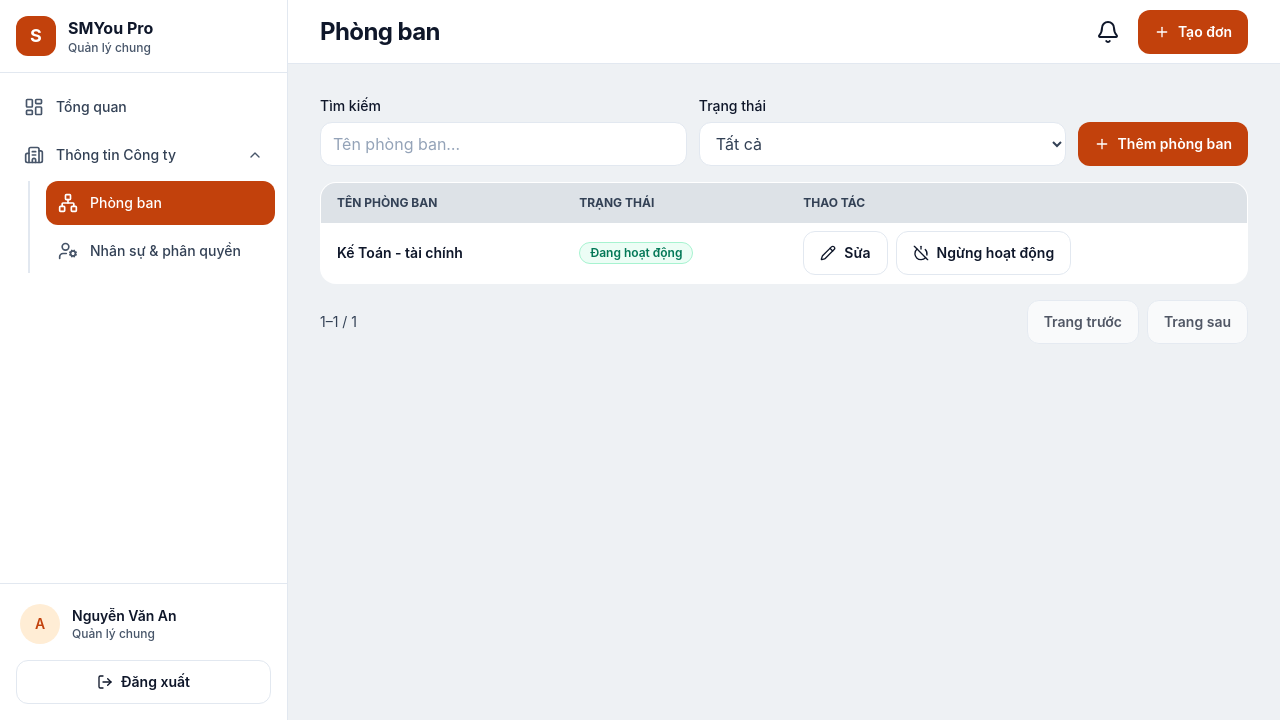
it: AC-EMP-049 thêm phòng ban › tên trùng → lỗi dưới ô; tên mới → toast + dòng mới
Click the button "Thêm phòng ban": (1163, 144) [1078,122,1248,166]
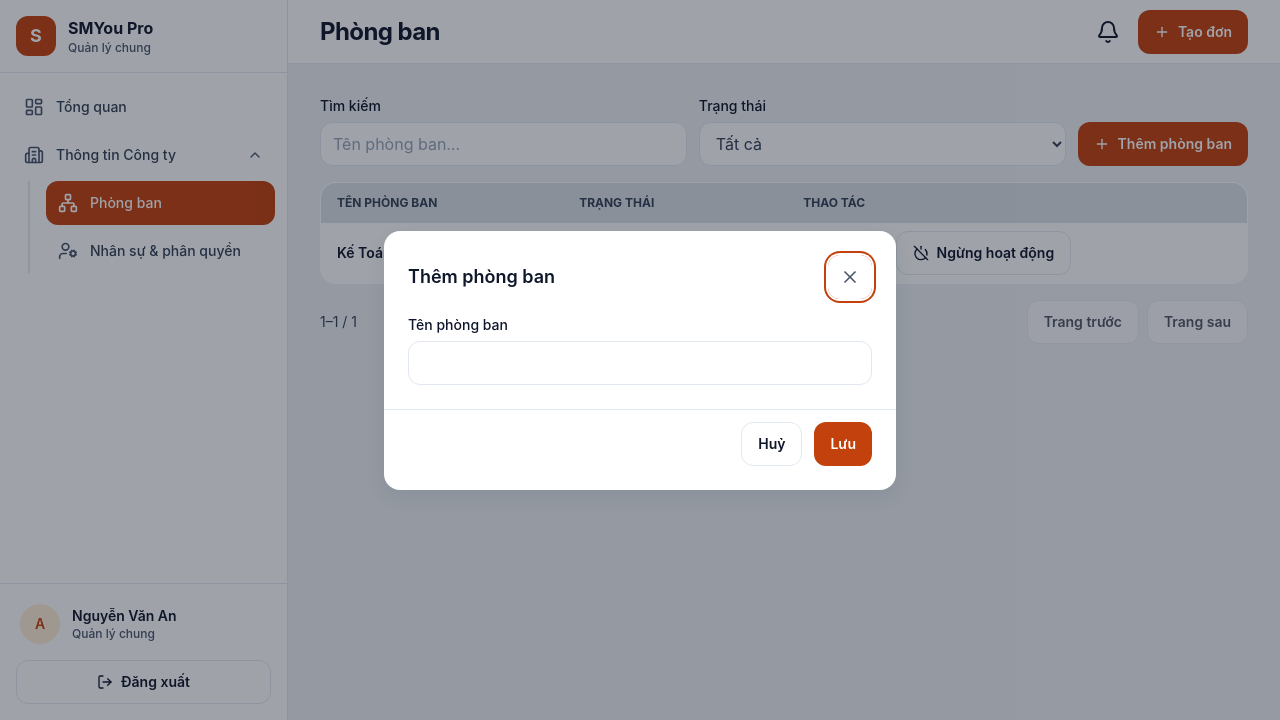
Click the button "Lưu": (843, 444) [814,422,872,466]
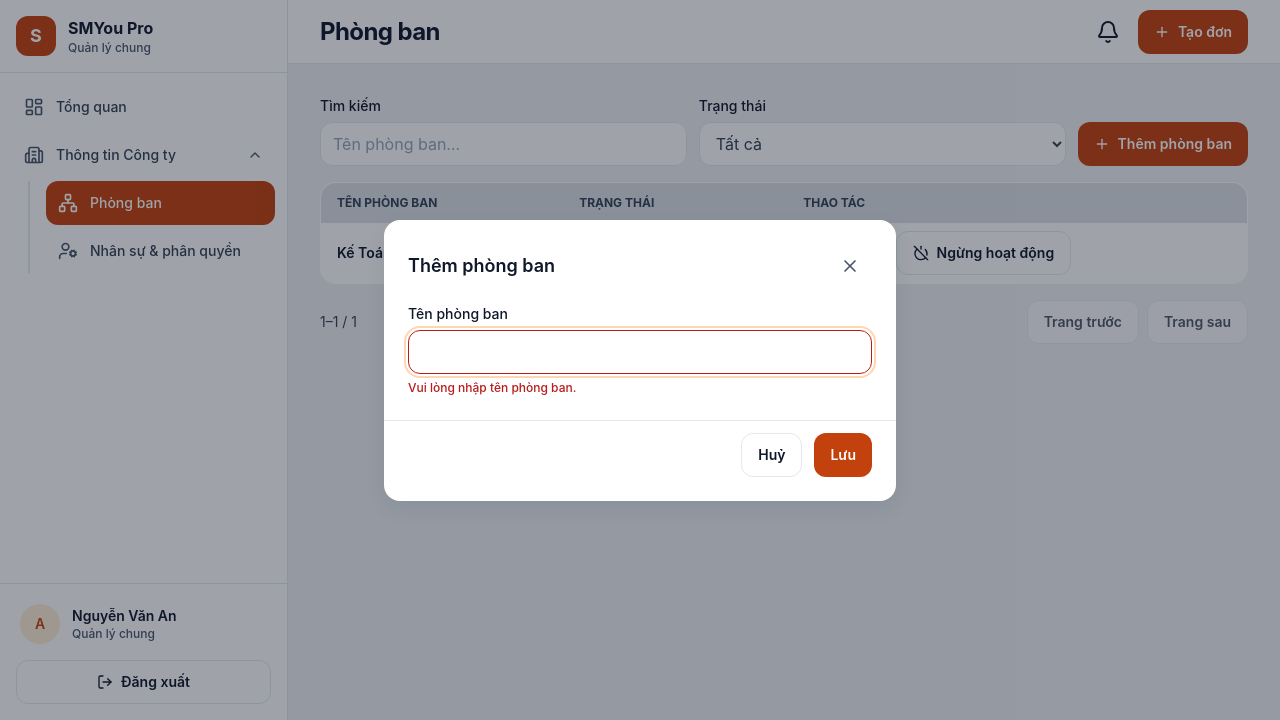
Now the text "Vui lòng nhập tên phòng ban." is shown, box [408,380,576,394]
In the field labelled "Tên phòng ban": (640, 352) [408,330,872,374], type "kế toán - tài chính"
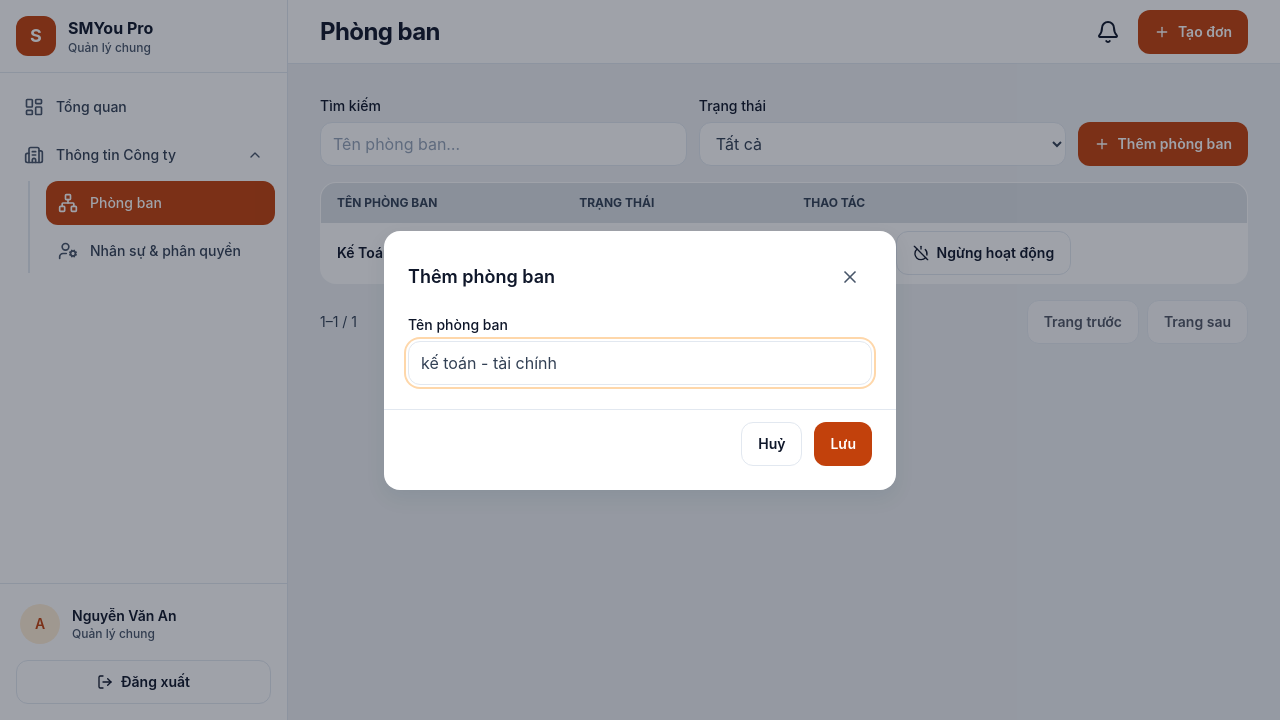
Click the button "Lưu": (843, 444) [814,422,872,466]
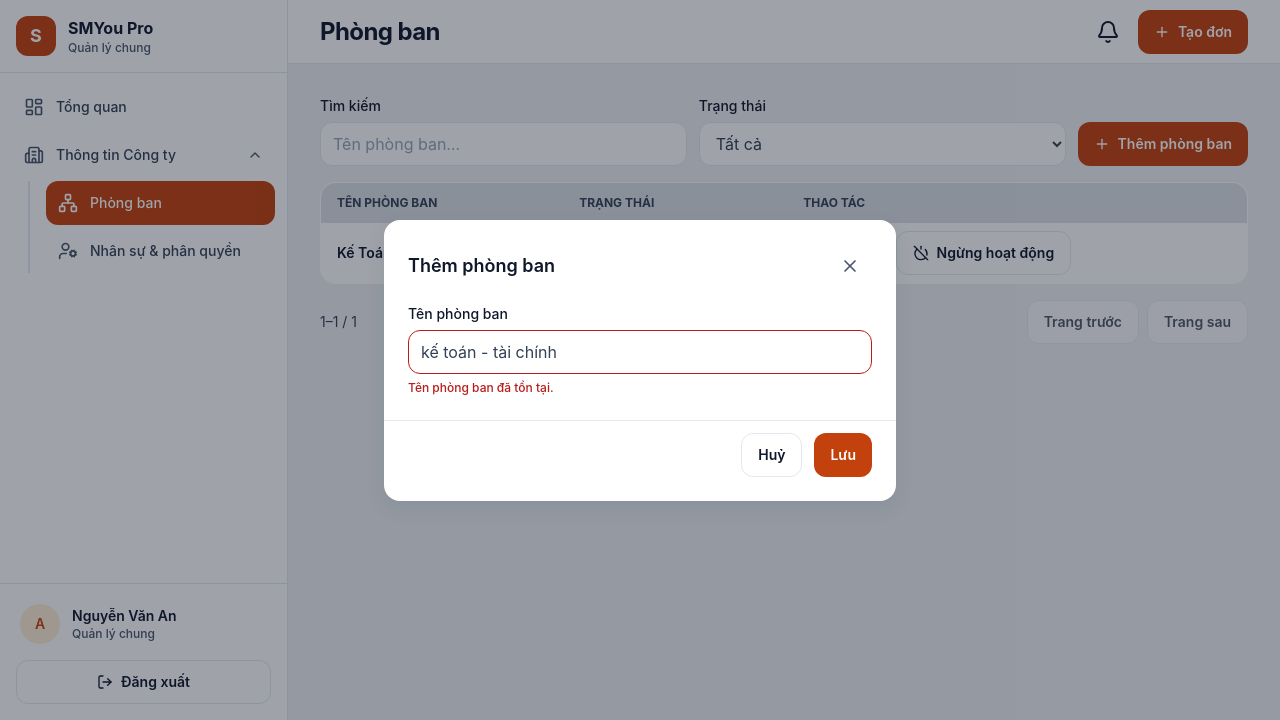
Now the text "Tên phòng ban đã tồn tại." is shown, box [408,380,554,394]
Replace the text in the field labelled "Tên phòng ban" with "Chăm sóc khách hàng": (640, 352) [408,330,872,374]
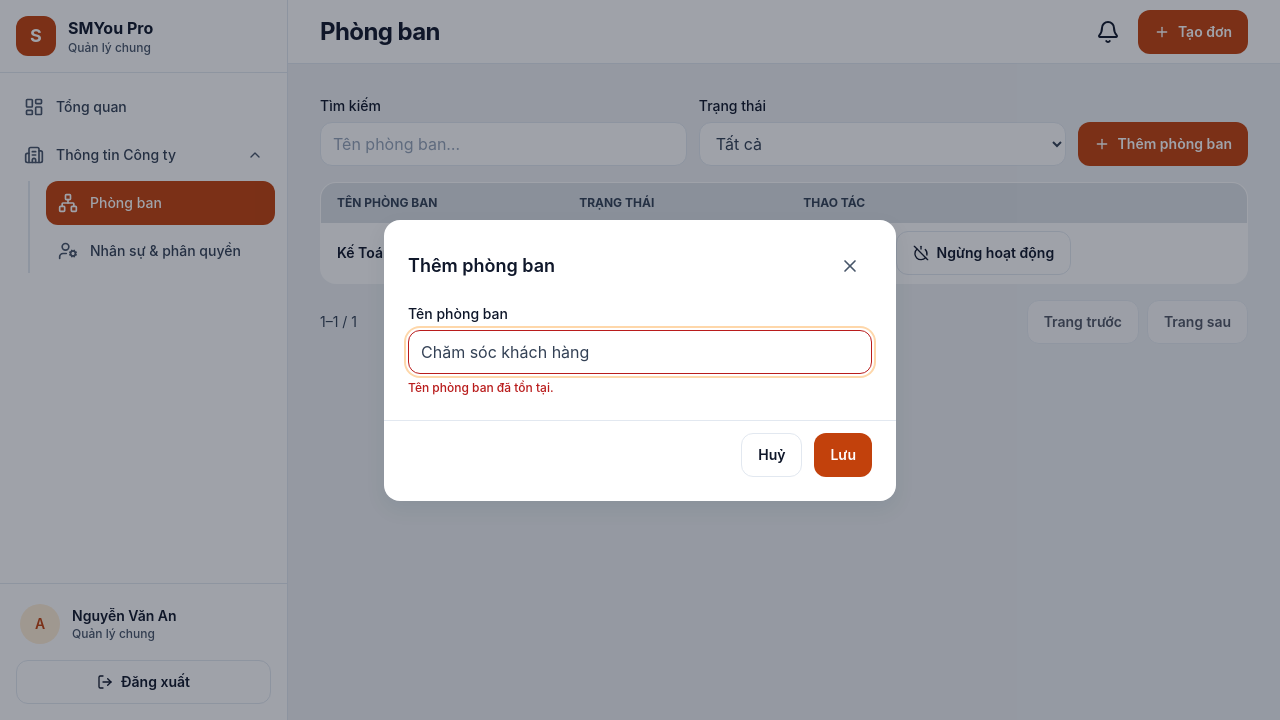
Click the button "Lưu": (843, 454) [814,432,872,476]
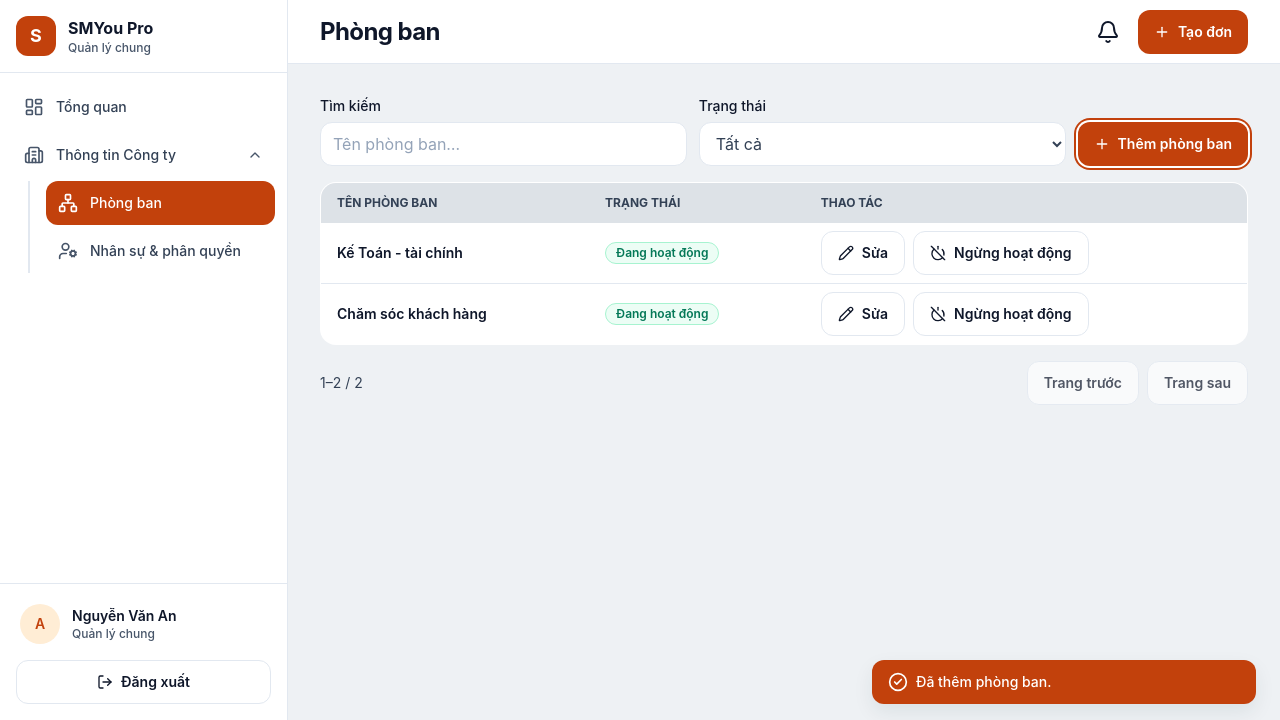
Now the text "Đã thêm phòng ban." is shown, box [872,660,1256,704]
Now the text "Chăm sóc khách hàng" is shown, box [320,284,589,344]
